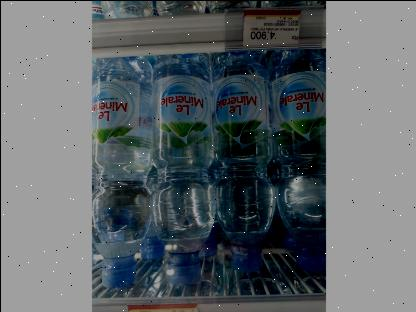Plastic Bottle: (82, 49, 150, 295), (266, 40, 330, 284), (213, 34, 271, 284), (149, 44, 203, 286)
